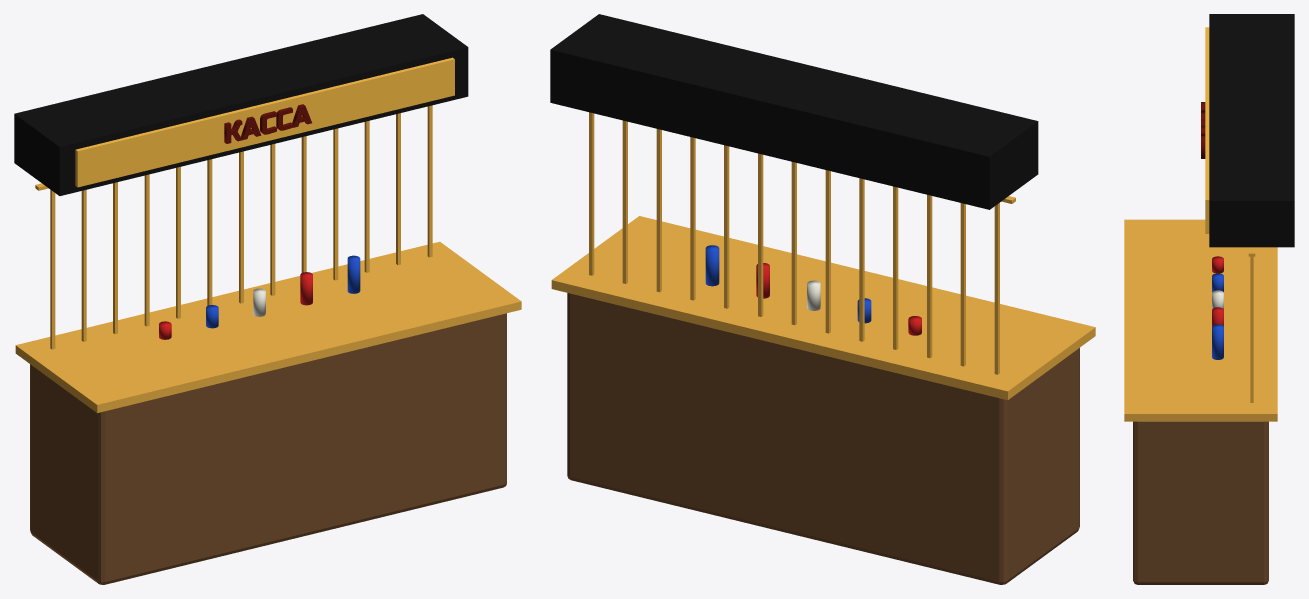
File: cashier_desk.glb
3 views of the same model, side by side, from view 1: azimuth 30°, elevation 25°; view 2: azimuth 150°, elevation 25°; view 3: azimuth 270°, elevation 25° (orthographic). The views are drawn at different scales.
Visible parts, largest first — view 1: cashier_desk; view 2: cashier_desk; view 3: cashier_desk.
Boxes of the visible parts, box(x1,y1,x2,y2) form: cashier_desk: box(14, 14, 521, 584); cashier_desk: box(550, 14, 1095, 584); cashier_desk: box(1124, 14, 1294, 584).
Size of the model in its own units: 2.7 by 2.5 by 1.
1 material, 1 textured.
